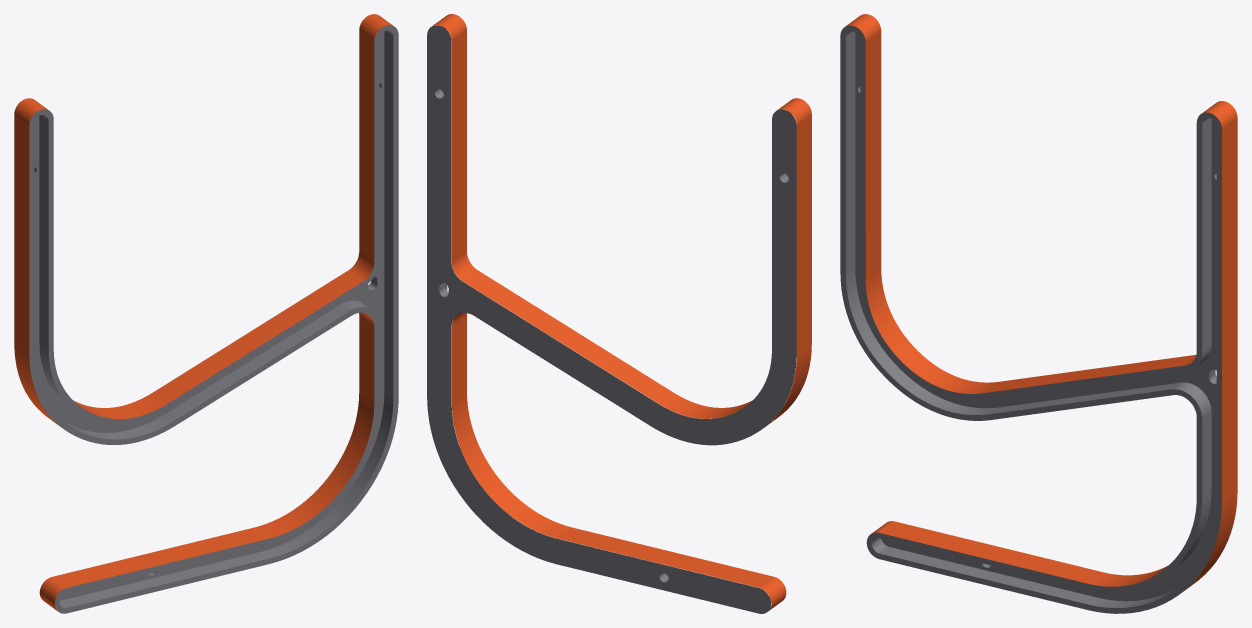
The model's file is FRONT.glb.
3 renders of one model, left to right at view 1: azimuth 30°, elevation 25°; view 2: azimuth 150°, elevation 25°; view 3: azimuth 330°, elevation 25°, orthographic. The views are drawn at different scales.
Visible parts, largest first — view 1: FRONT; view 2: FRONT; view 3: FRONT.
Part boxes in pixels (left/top/right/bottom): FRONT: left=14, top=14, right=398, bottom=613; FRONT: left=427, top=14, right=811, bottom=613; FRONT: left=840, top=14, right=1237, bottom=613.
Size of the model in its own units: 35.34 by 46.63 by 2.53.
